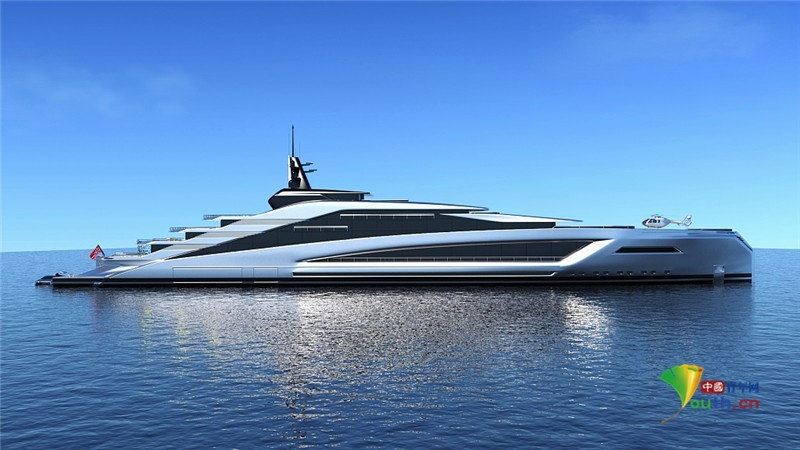yacht: (45, 122, 772, 297)
